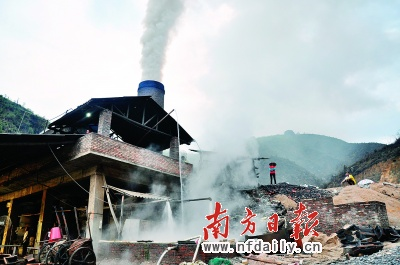dust: (132, 2, 188, 87)
